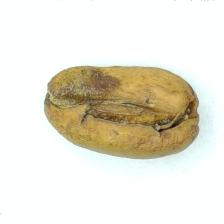NG: (49, 67, 193, 143)
